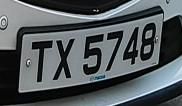4: (122, 21, 140, 72)
5: (81, 31, 104, 80)
7: (103, 27, 124, 74)
8: (139, 17, 156, 66)
T: (30, 35, 53, 85)
X: (52, 33, 77, 85)
